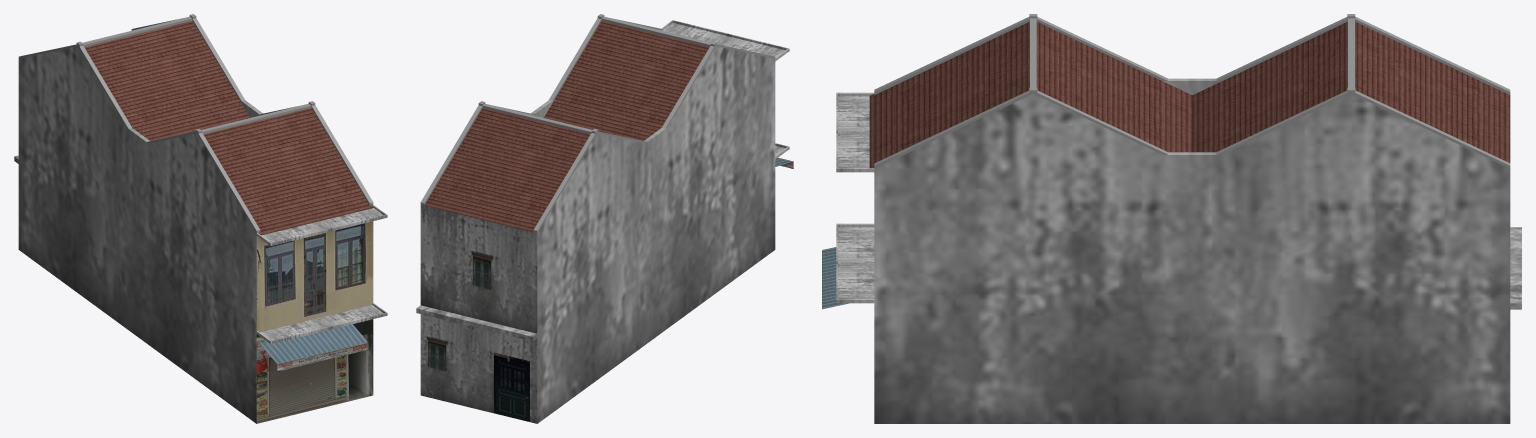
The picture shows the model from 3 angles, left to right: view 1: azimuth 30°, elevation 25°; view 2: azimuth 150°, elevation 25°; view 3: azimuth 270°, elevation 25°; orthographic projection. The views are drawn at different scales.
Visible parts, largest first — view 1: HN1026_Beer17; view 2: HN1026_Beer17; view 3: HN1026_Beer17.
Boxes of the visible parts, bbox=[...] form: HN1026_Beer17: bbox=[14, 14, 387, 423]; HN1026_Beer17: bbox=[416, 14, 793, 423]; HN1026_Beer17: bbox=[822, 14, 1521, 423].
Bounding box in the file's own units: 4.75 × 9.7 × 18.43.
Materials: 1 (1 with a texture image).
